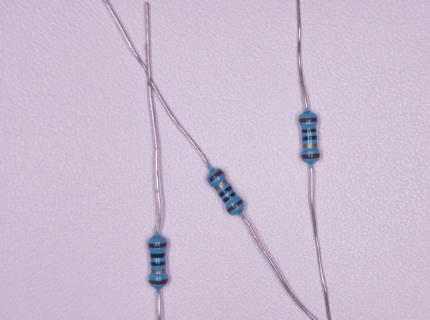Black band: (218, 185, 233, 198), (222, 191, 237, 203), (151, 253, 166, 258), (151, 261, 165, 266), (302, 128, 316, 133), (302, 136, 317, 140)
Brown band: (207, 169, 224, 183), (227, 199, 244, 213), (148, 242, 167, 248), (149, 278, 168, 284), (301, 153, 320, 159), (299, 118, 317, 122)
Gold band: (214, 179, 228, 192), (151, 268, 166, 274), (302, 143, 317, 148)
